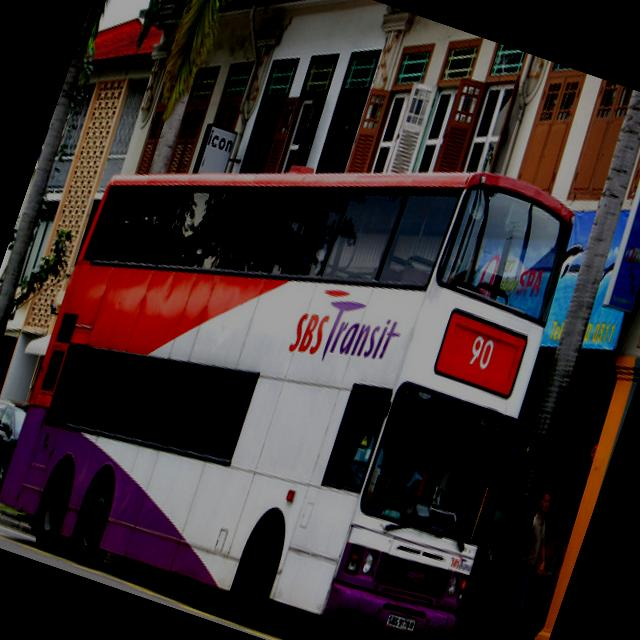Vehicle: (0, 50, 599, 640), (0, 385, 27, 486)
